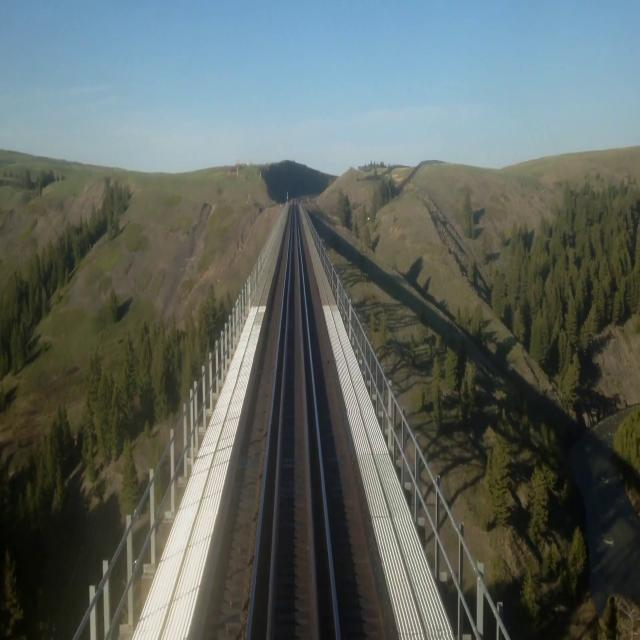rail-track: (251, 199, 337, 639)
